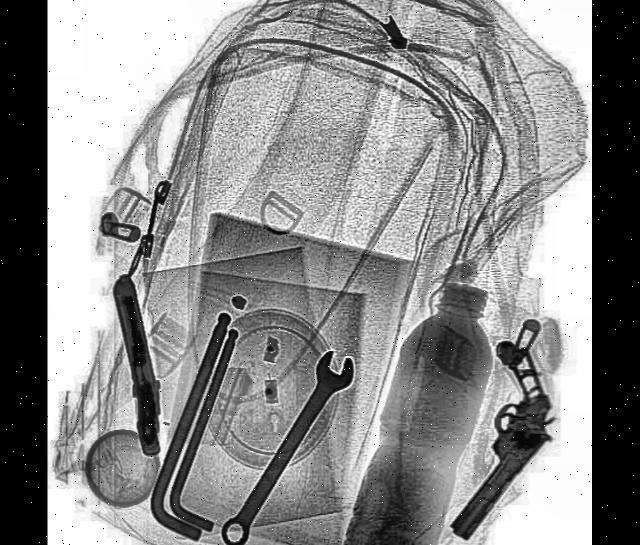Gun: (416, 340, 578, 545), (108, 265, 173, 456)
Wrench: (215, 335, 362, 545)
